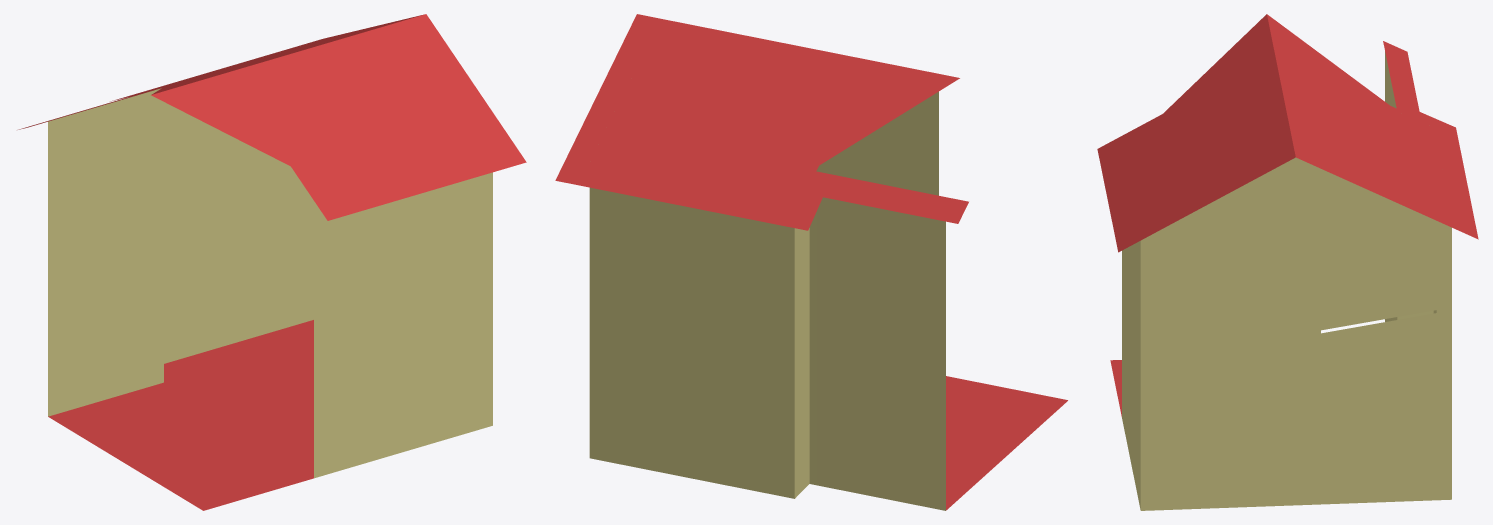
The picture shows the model from 3 angles, left to right: view 1: azimuth 30°, elevation 25°; view 2: azimuth 150°, elevation 25°; view 3: azimuth 270°, elevation 25°; orthographic projection. The views are drawn at different scales.
Bounding box in the file's own units: 13.21 × 11.62 × 12.05.
